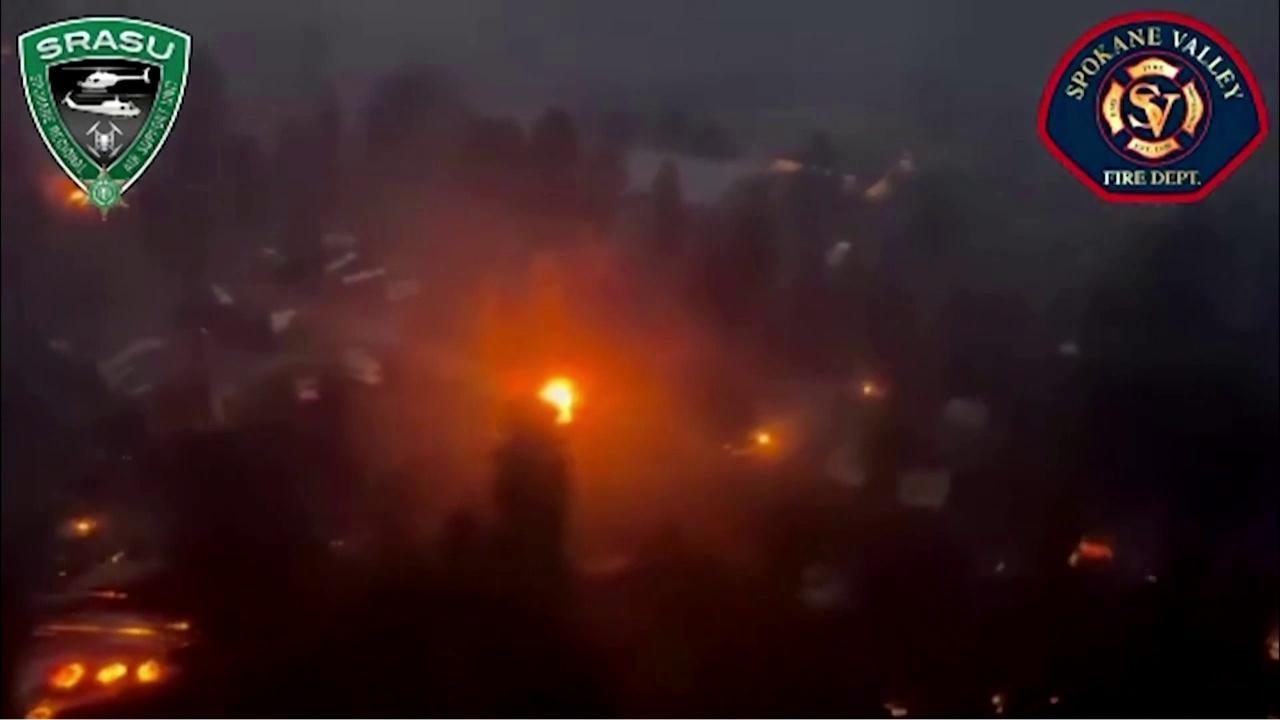fire: (19, 613, 197, 720), (530, 373, 583, 427), (1064, 533, 1115, 569), (38, 173, 87, 207), (52, 510, 99, 540), (878, 696, 915, 718), (84, 585, 130, 601), (1261, 631, 1279, 671), (747, 427, 775, 448), (855, 379, 875, 398), (990, 691, 1005, 716), (1049, 695, 1061, 707)
smoke: (4, 0, 1280, 720)
